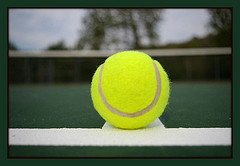tennis ball: (89, 49, 172, 131)
